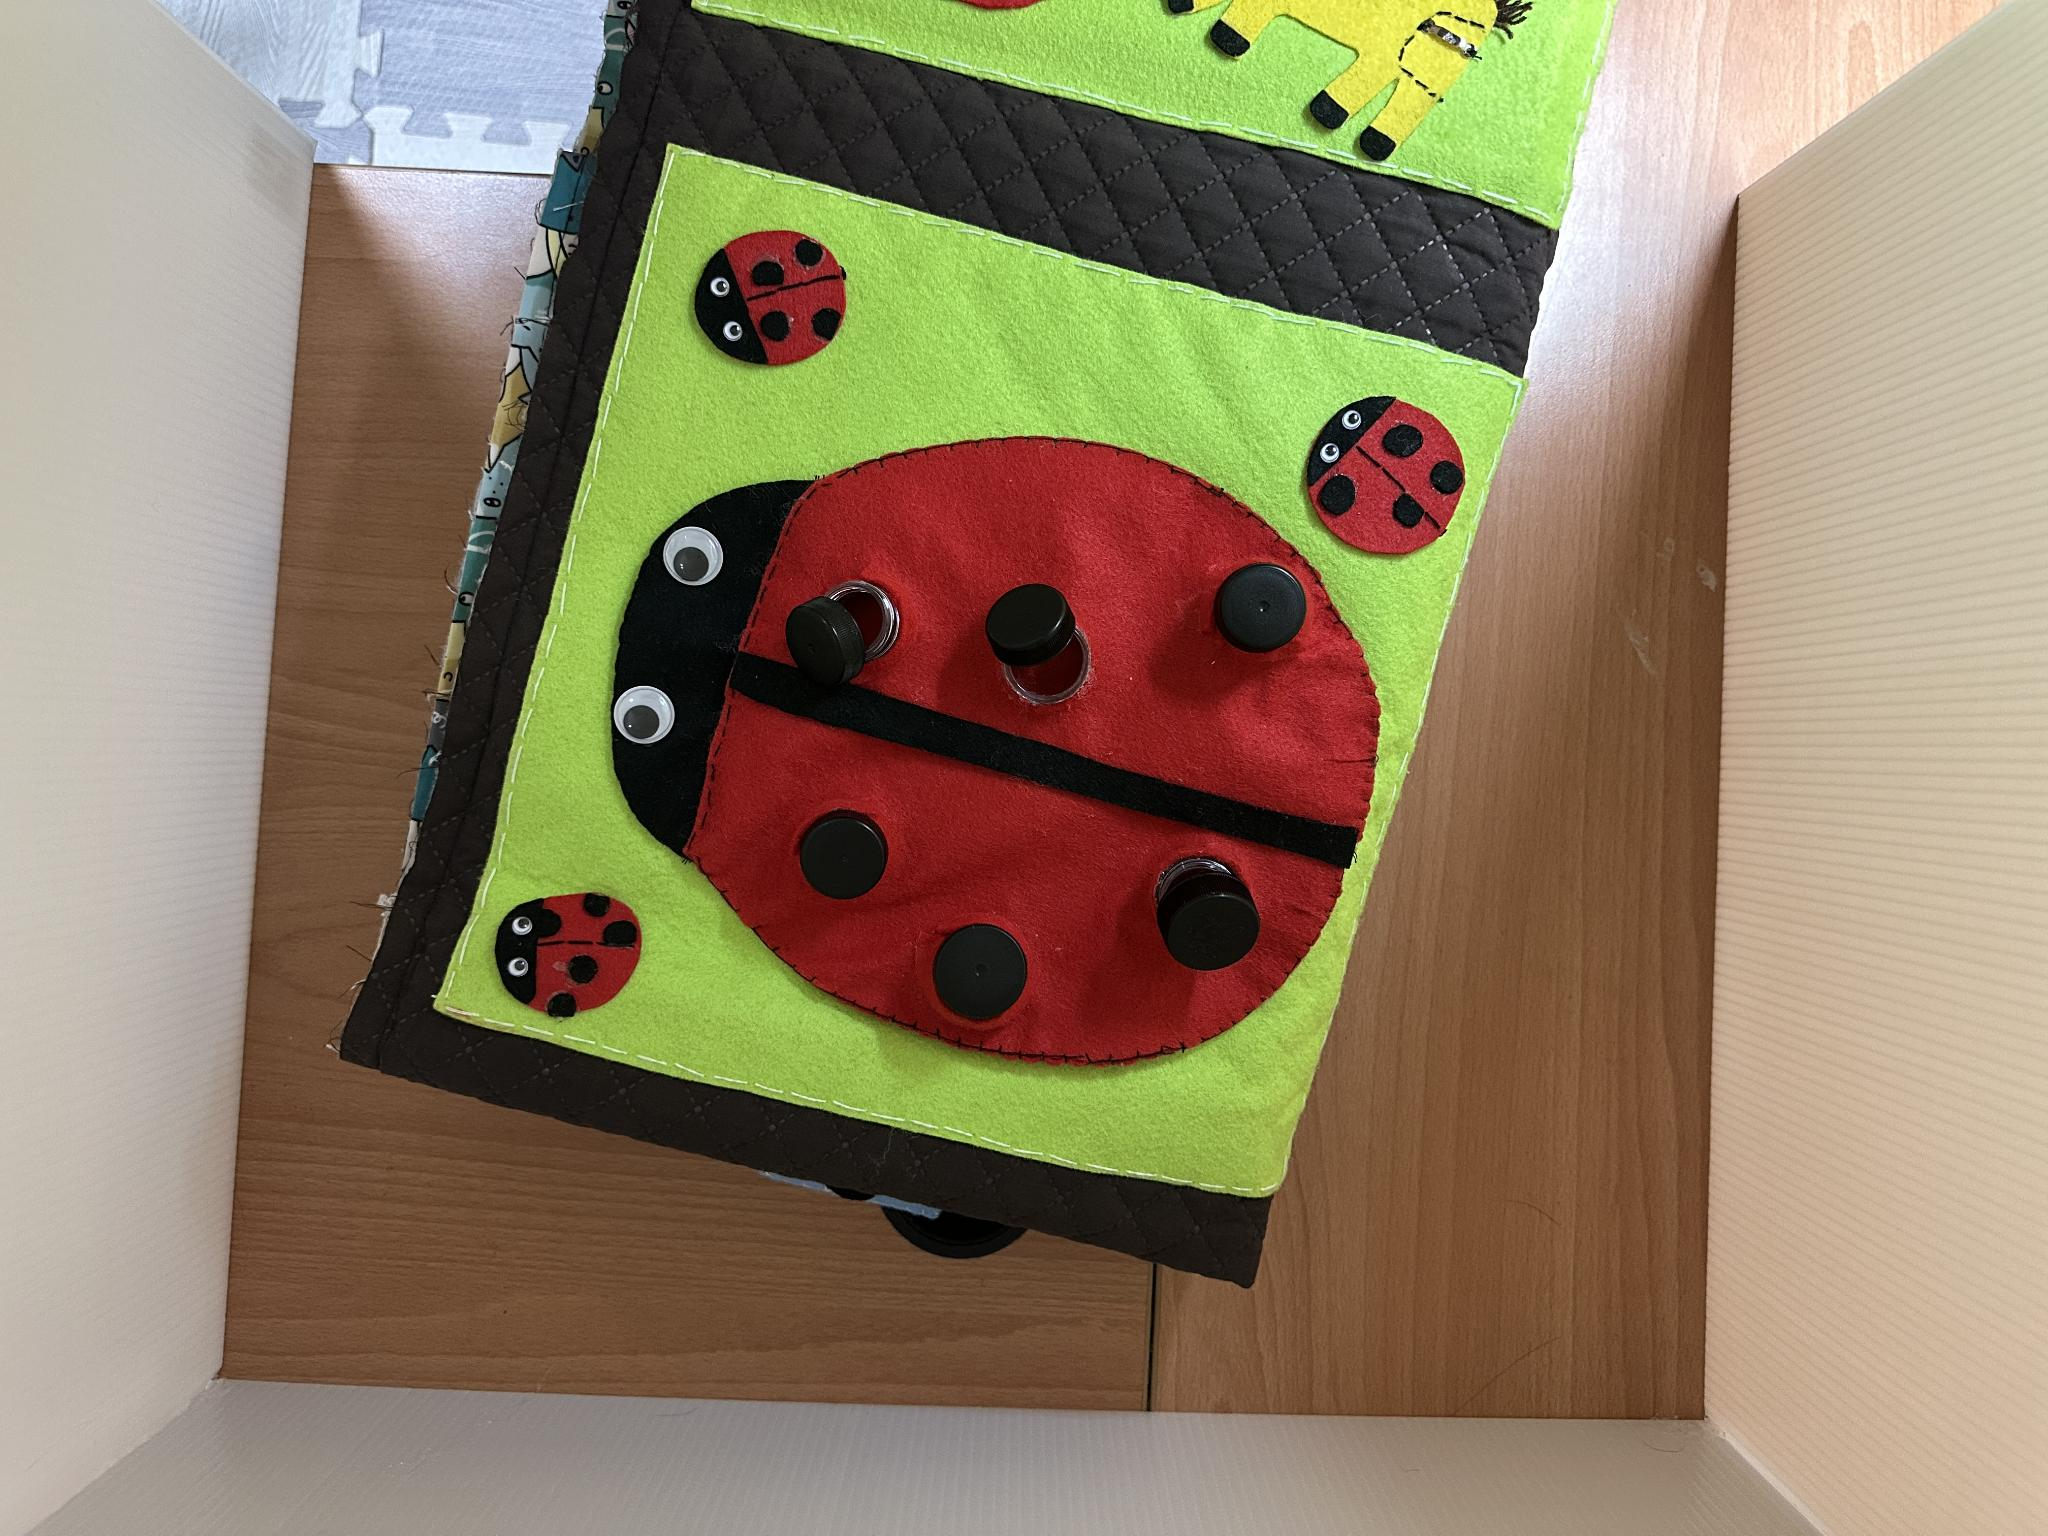cap_ng: (772, 557, 926, 715), (966, 570, 1113, 726), (1135, 836, 1272, 979)
cap_ok: (1185, 534, 1347, 676), (913, 905, 1055, 1039), (790, 791, 908, 915)
